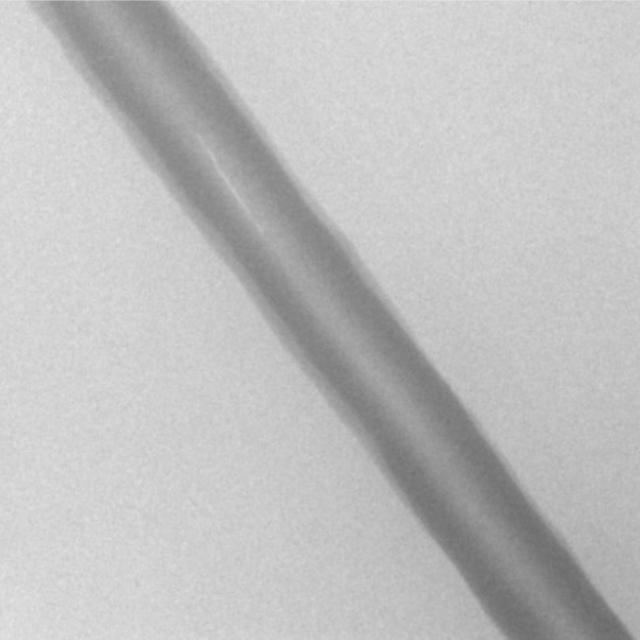crack: (197, 133, 261, 231)
